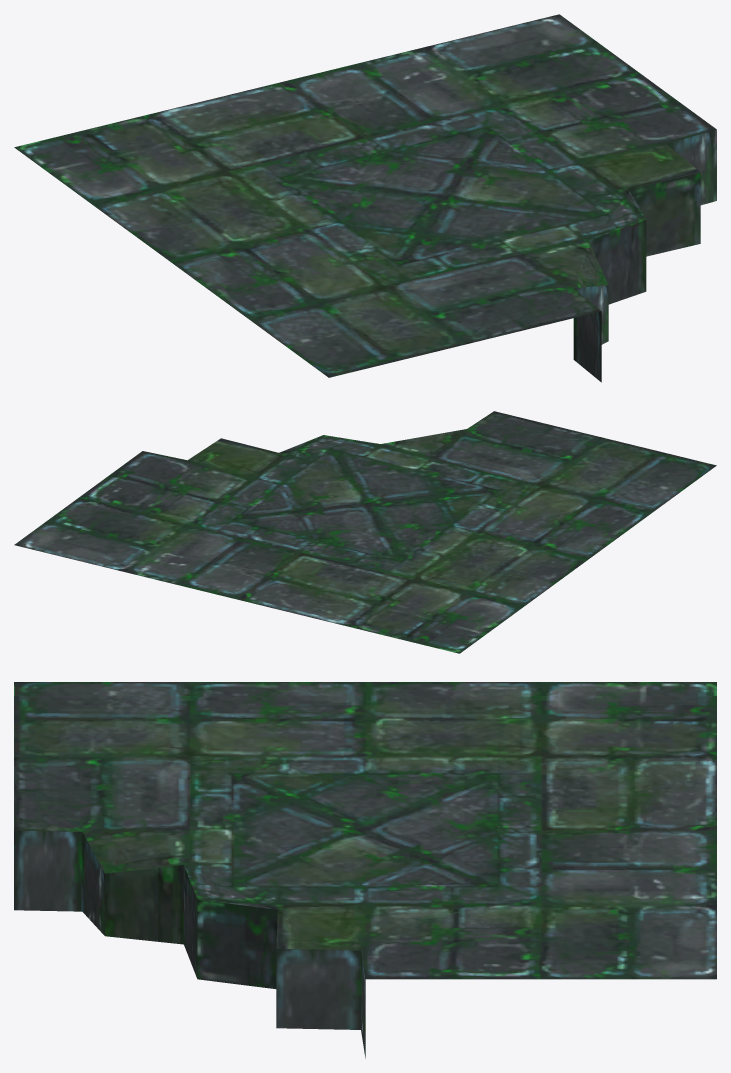
Rendered from stemple_floor_convex_03.fbx.
The picture shows the model from 3 angles, top to bottom: view 1: azimuth 30°, elevation 25°; view 2: azimuth 150°, elevation 25°; view 3: azimuth 270°, elevation 25°; orthographic projection. The views are drawn at different scales.
Visible parts, largest first — view 1: obj1.090; view 2: obj1.090; view 3: obj1.090.
Part boxes in pixels (x1=…): obj1.090: x1=14, y1=14, x2=716, y2=382; obj1.090: x1=14, y1=411, x2=716, y2=653; obj1.090: x1=14, y1=682, x2=716, y2=1058.
Bounding box in the file's own units: 4 × 0.5 × 4.
